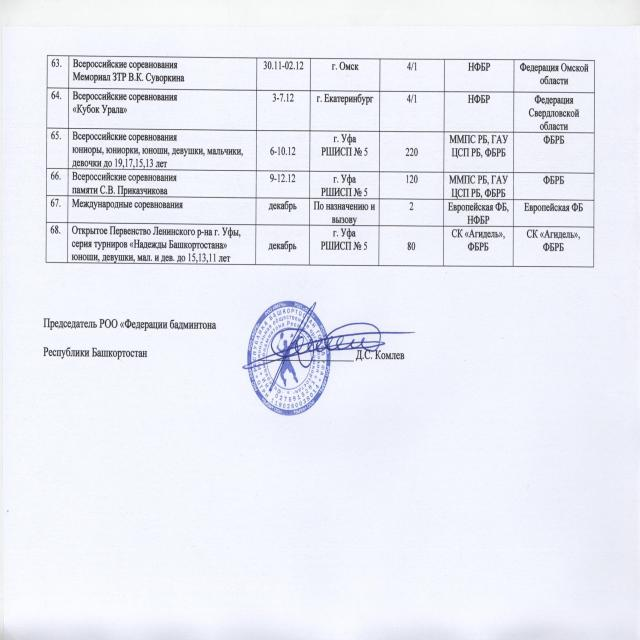stamps: (232, 283, 422, 446)
